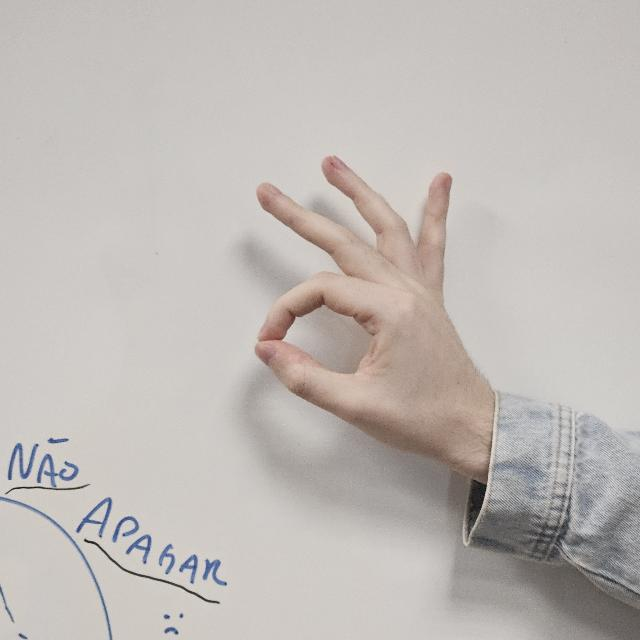Bolinha: (243, 122, 491, 502)
